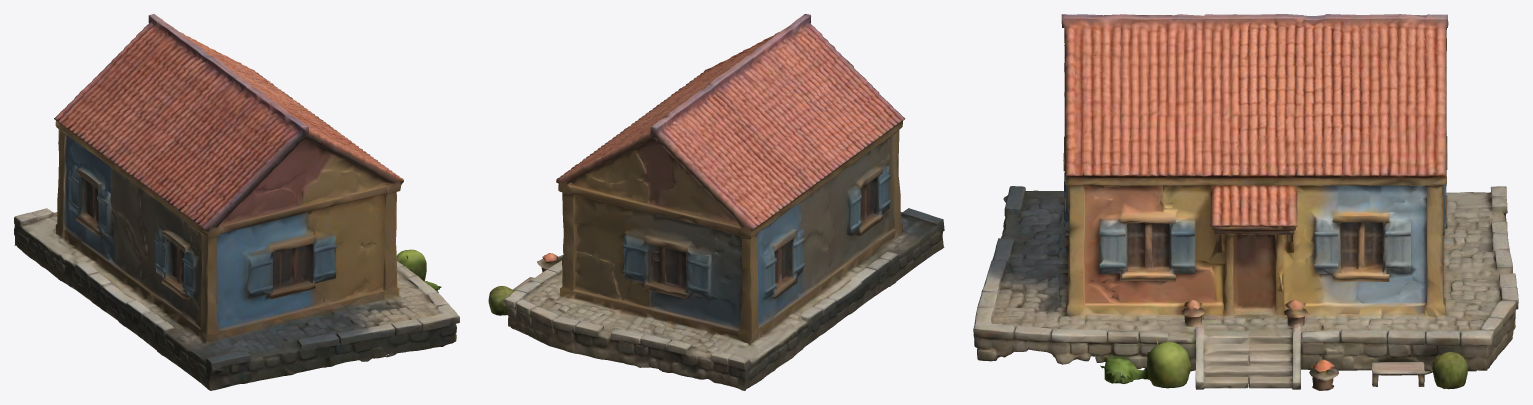
File: cid_casa.glb
3 renders of one model, left to right at view 1: azimuth 30°, elevation 25°; view 2: azimuth 150°, elevation 25°; view 3: azimuth 270°, elevation 25°, orthographic. The views are drawn at different scales.
Parts seen in each view (by area): view 1: tripo_node_aa8df9ce-6b80-4cba-b2ff-61fff6d08a33; view 2: tripo_node_aa8df9ce-6b80-4cba-b2ff-61fff6d08a33; view 3: tripo_node_aa8df9ce-6b80-4cba-b2ff-61fff6d08a33.
Boxes of the visible parts, x1,y1,x2,y2 form: tripo_node_aa8df9ce-6b80-4cba-b2ff-61fff6d08a33: (14, 14, 459, 390); tripo_node_aa8df9ce-6b80-4cba-b2ff-61fff6d08a33: (488, 14, 944, 390); tripo_node_aa8df9ce-6b80-4cba-b2ff-61fff6d08a33: (973, 14, 1518, 390).
Size of the model in its own units: 0.7511 by 0.5608 by 0.9997.
1 material, 1 textured.
